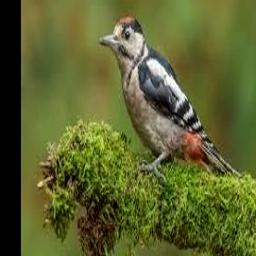Woodpecker: (99, 16, 240, 178)
